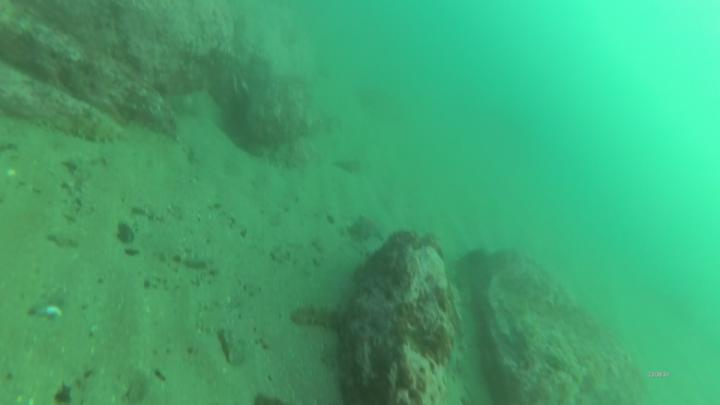holothurian: (70, 110, 127, 146), (291, 301, 352, 334)
starfish: (352, 212, 385, 242)
